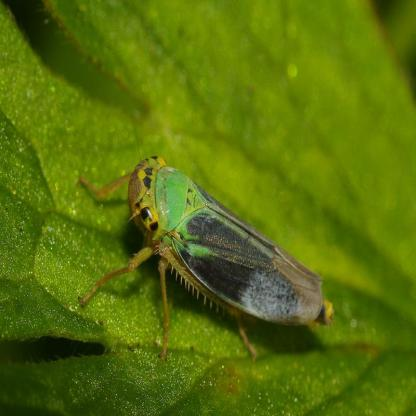Green-Leafhopper: (82, 150, 340, 367)
